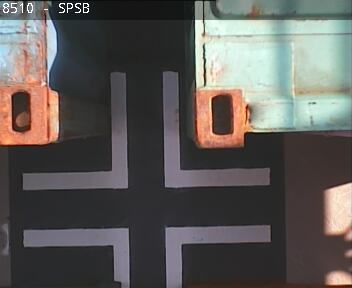groundmarker_1: (22, 74, 270, 192), (24, 223, 270, 288)
